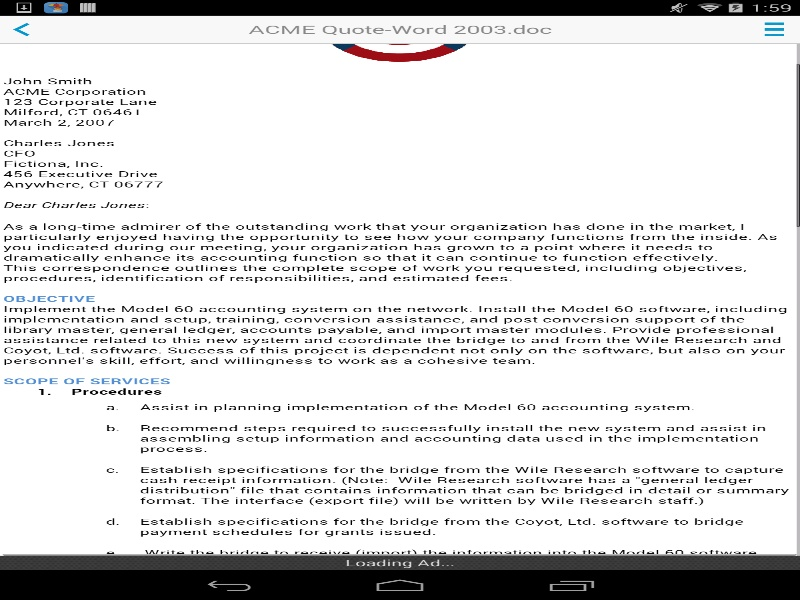Button: (0, 15, 58, 43), (748, 15, 800, 43)
Input: (2, 43, 800, 555)
